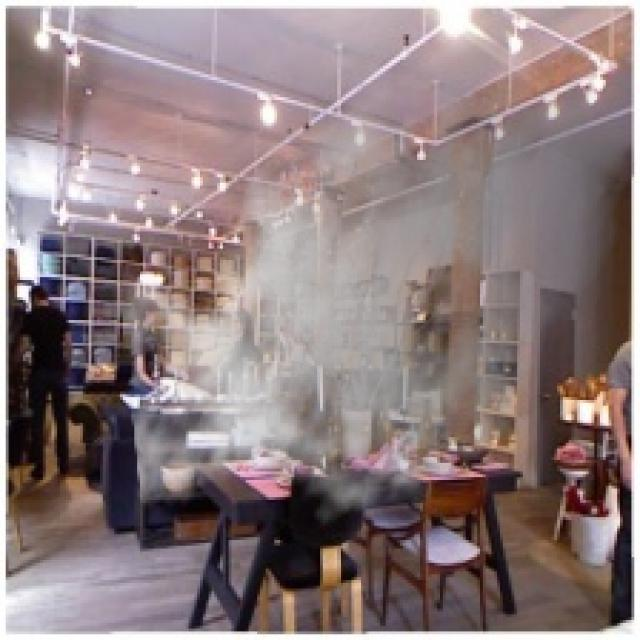smoke: (117, 17, 634, 543)
